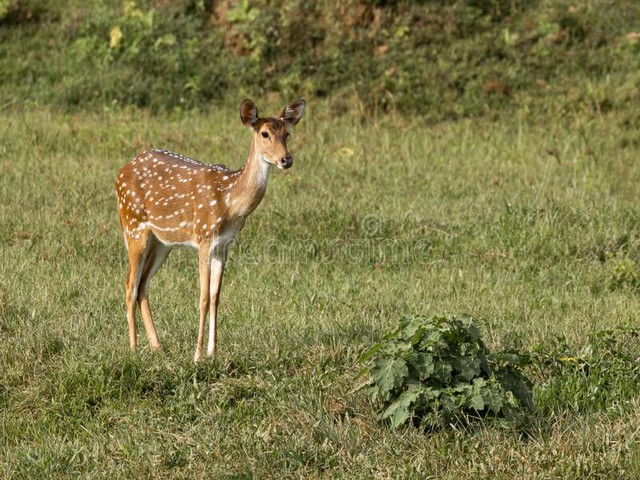deer: (112, 88, 311, 354)
